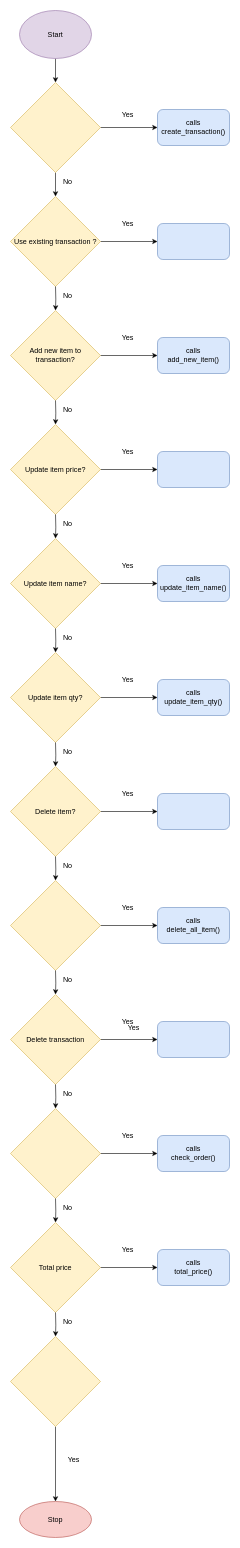
Image size: 240x1548. Some labels were removed from this diagram. The shapes that lost their labels are listed below. From the top down, each one's centre as x and y in pixels, then its label:
the point at 55,127: Add new transaction?
the point at 193,241: calls get_transaction()
the point at 193,469: calls update_item_price()
the point at 193,811: calls delete_item()
the point at 55,925: Reset Transaction
the point at 193,1039: calls delete_transaction()
the point at 55,1153: Check order
the point at 55,1381: Exit
